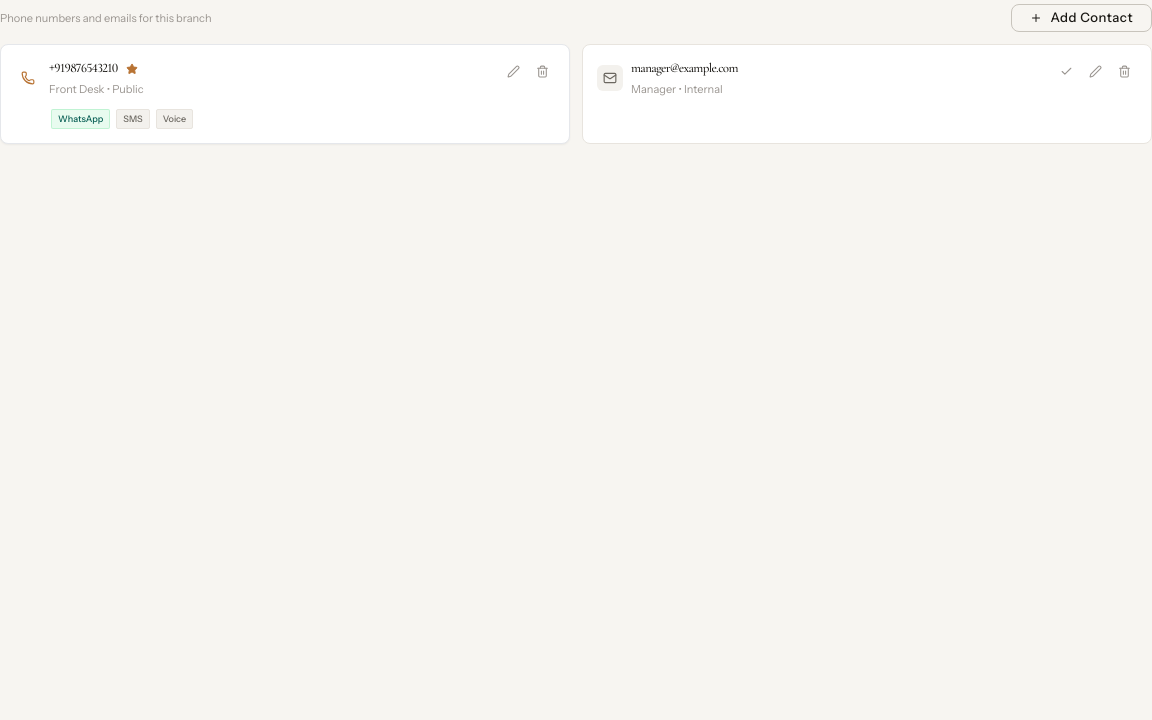
Test case: BranchContactsSection delete confirmation › opens the delete dialog without mutation or native browser confirmation
The width and height of the screenshot is (1152, 720).
expect the heading "+919876543210" is shown: met, box [49,59,144,78]
Click the button titled "Delete Contact" in the row of "public" at (542, 72), box [530,59,555,84]
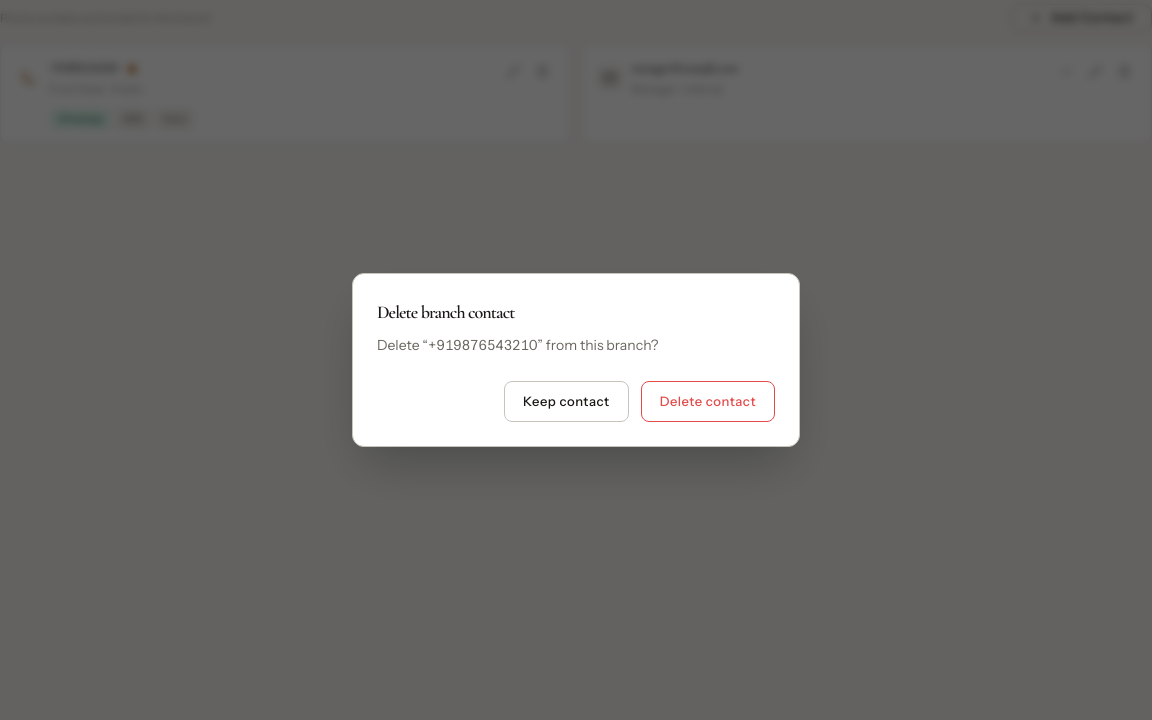
expect the button "Keep contact" is enabled: met, box [504,381,629,422]
expect the button "Delete contact" is enabled: met, box [641,381,775,422]
